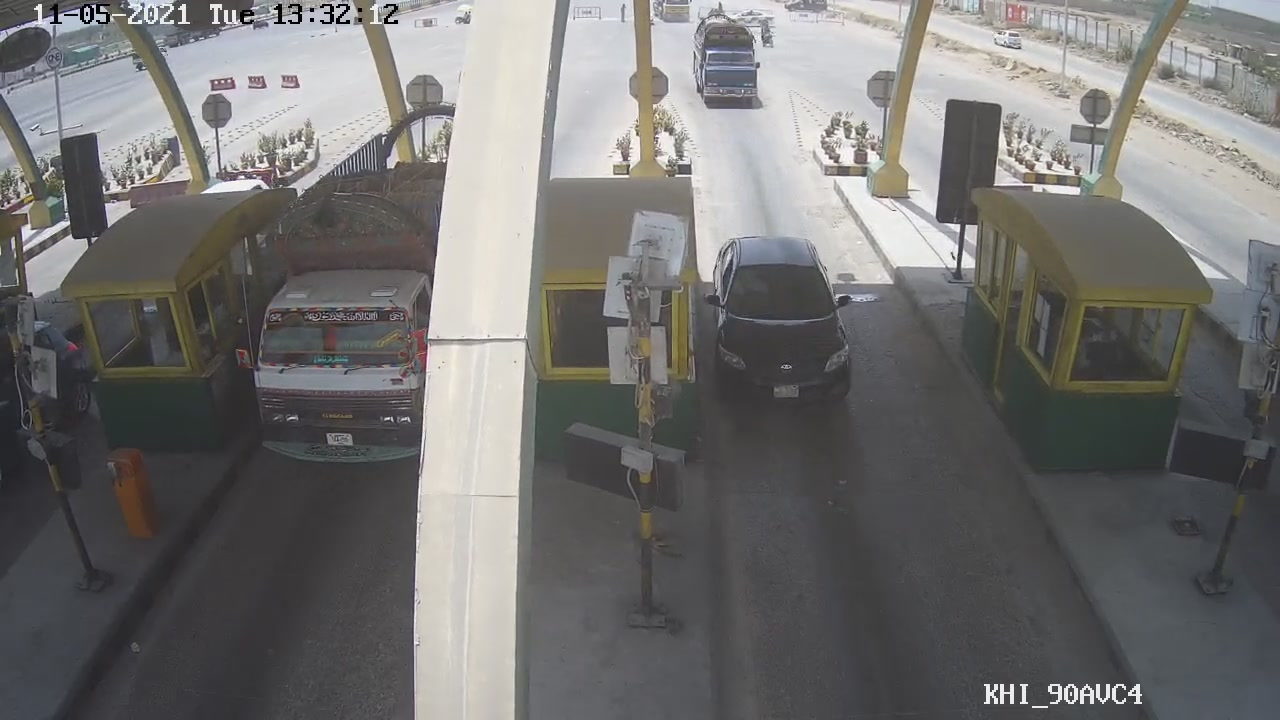F1: (702, 232, 860, 418)
